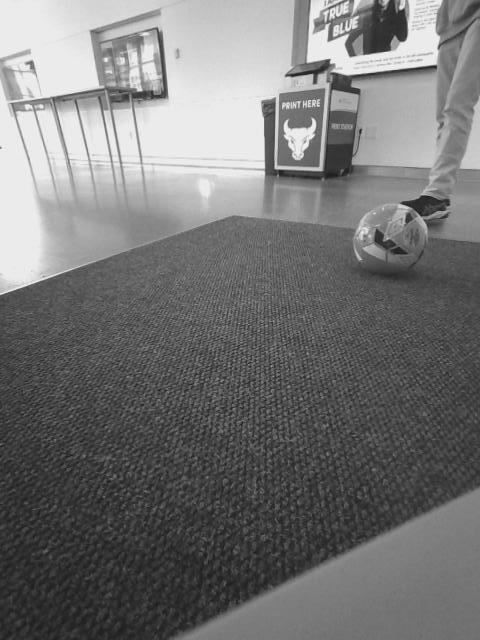ball: (351, 201, 432, 279)
